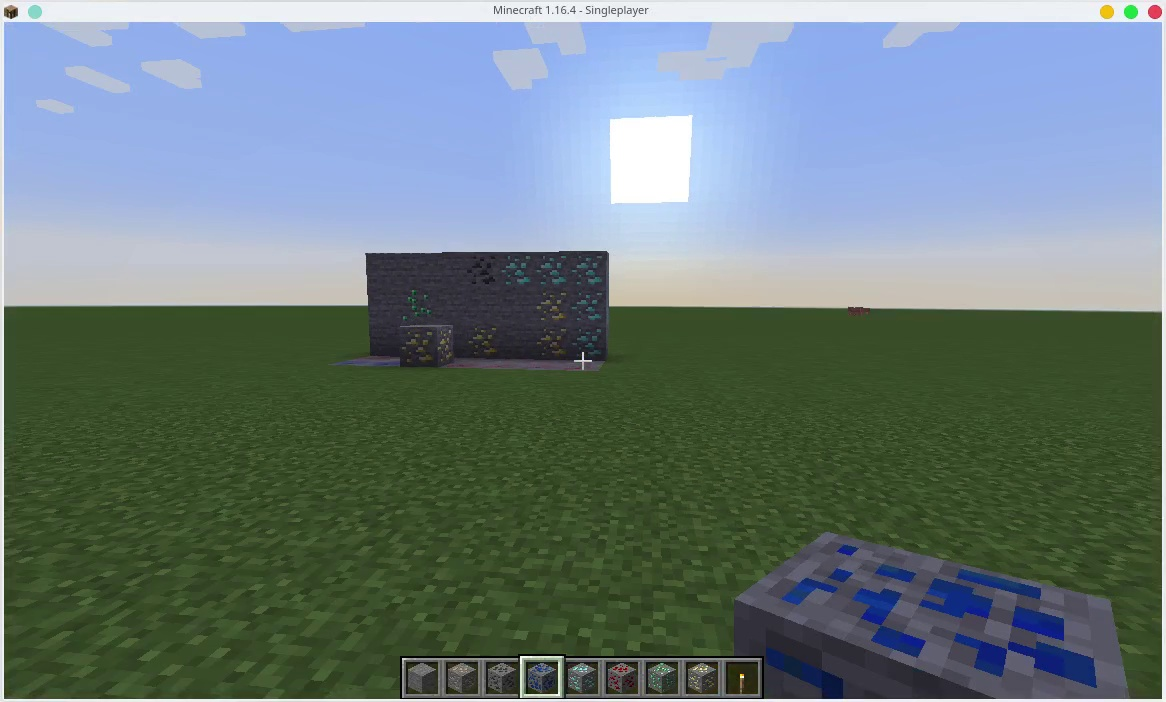gold: (399, 322, 451, 367), (532, 289, 575, 323), (529, 327, 569, 361), (688, 662, 717, 698), (467, 328, 500, 358)
